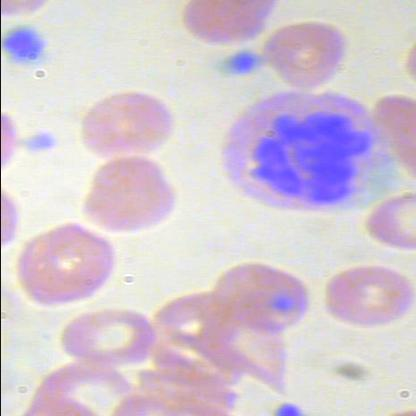Platelets: (1, 23, 53, 69), (217, 47, 265, 78), (18, 128, 56, 154), (269, 402, 313, 416)
RBC: (16, 218, 121, 309), (210, 260, 314, 338), (76, 156, 180, 233), (315, 260, 415, 340), (76, 86, 180, 162), (264, 20, 352, 95), (60, 306, 162, 369), (174, 0, 277, 44), (359, 190, 415, 255)
WBC: (215, 88, 397, 222)
